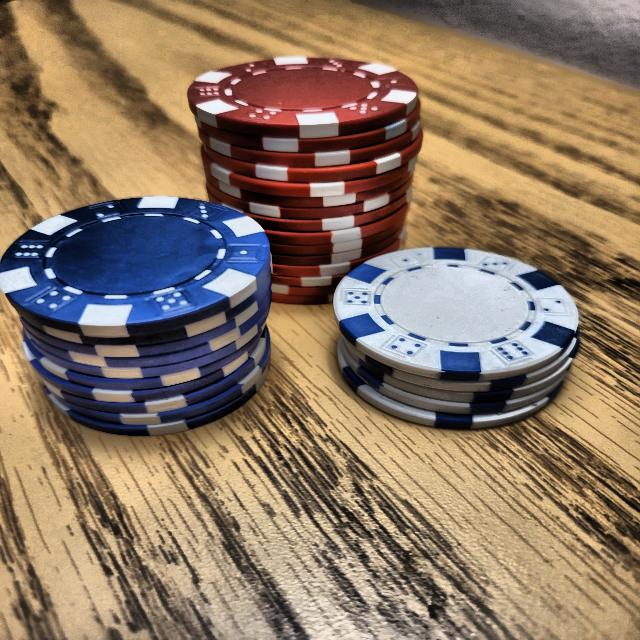Chip: (13, 184, 292, 443), (310, 208, 598, 457), (169, 38, 438, 303)
